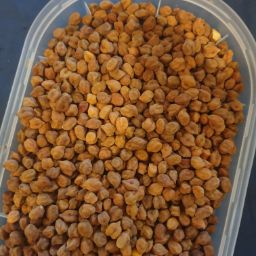Black Chickpeas: (58, 1, 235, 256), (45, 24, 244, 175), (1, 157, 226, 256), (22, 41, 125, 256)
